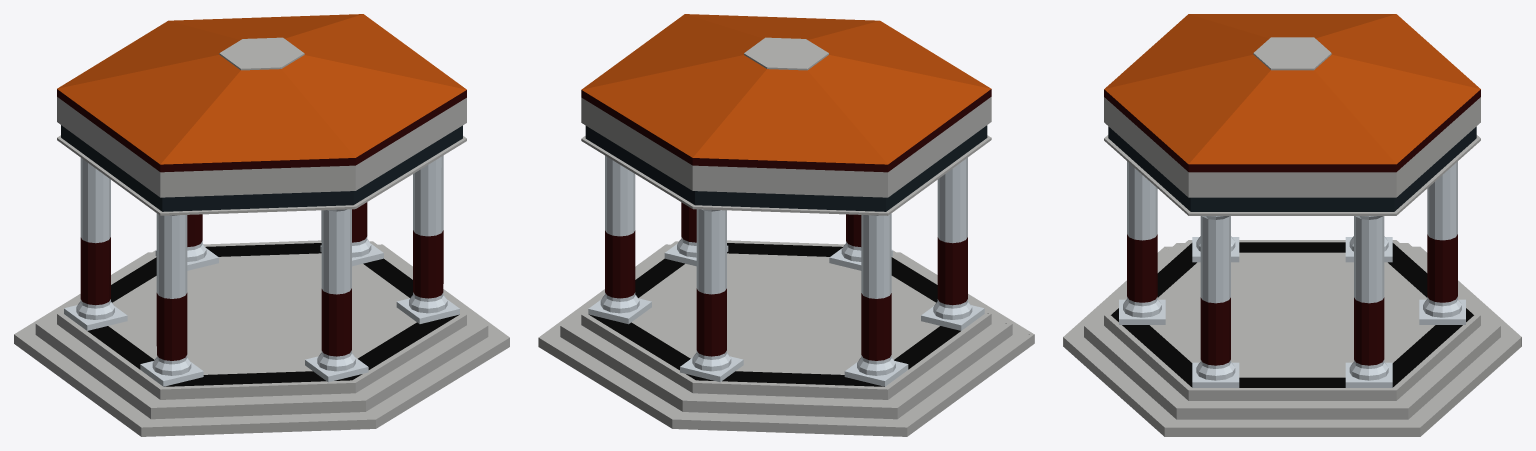
Rendered from Gazebo.fbx.
3 views of the same model, side by side, from view 1: azimuth 30°, elevation 25°; view 2: azimuth 150°, elevation 25°; view 3: azimuth 270°, elevation 25° (orthographic).
Parts seen in each view (by area): view 1: Circle; view 2: Circle; view 3: Circle.
Part boxes in pixels (x1,y1,x2,y2): Circle: (14,14,509,436); Circle: (538,14,1034,436); Circle: (1063,14,1521,436).
Bounding box in the file's own units: 706 × 535 × 757.
